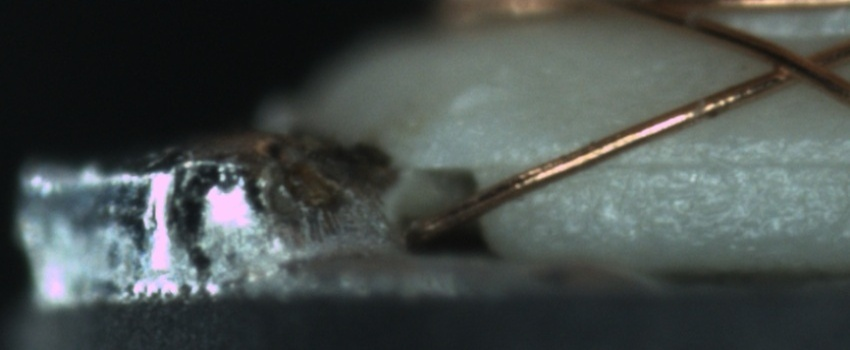CL: (750, 36, 843, 92)
DL: (528, 132, 849, 194)
